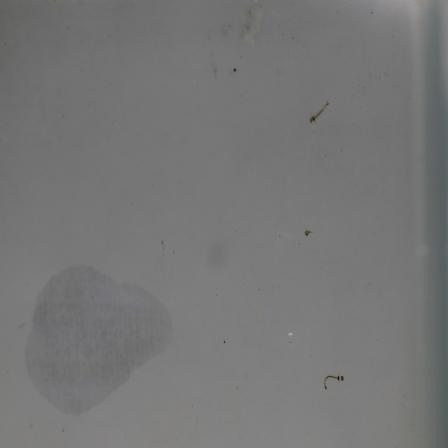Jentik-Nyamuk: (306, 97, 332, 126), (320, 370, 349, 394)
